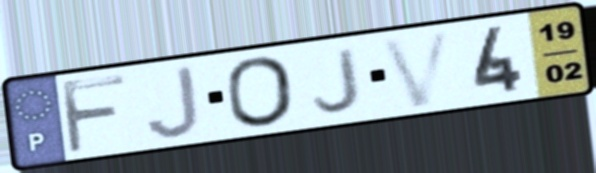4: (470, 23, 527, 96)
F: (56, 72, 131, 157)
J: (142, 62, 203, 141), (309, 44, 364, 116)
O: (222, 53, 299, 130)
V: (376, 26, 458, 111)
